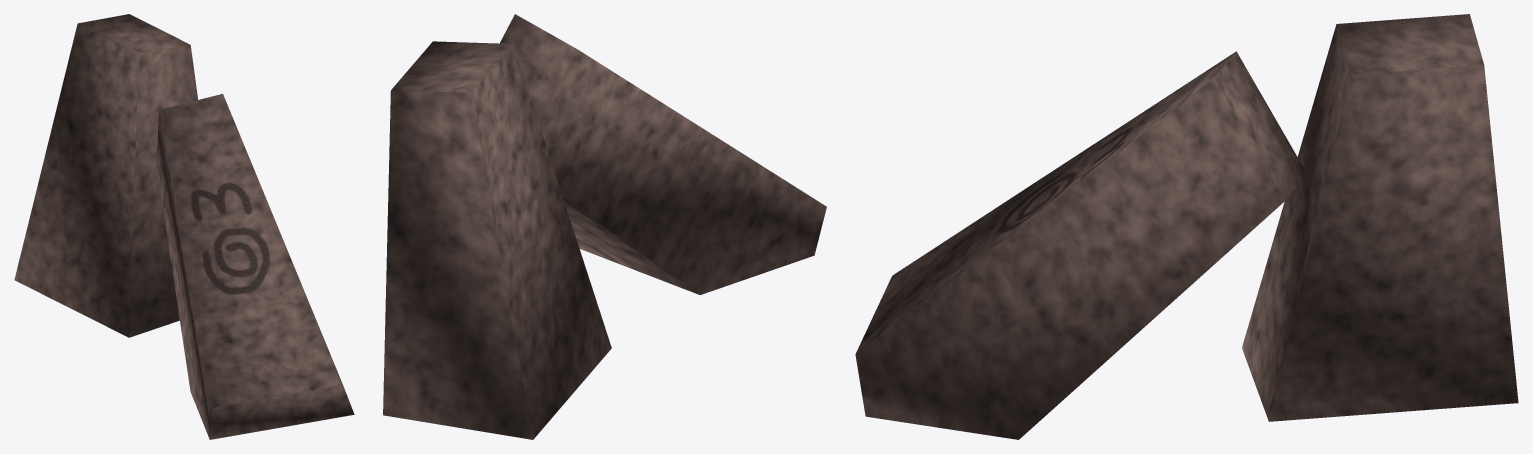
Rendered from tar_henge_05.fbx.
The picture shows the model from 3 angles, left to right: view 1: azimuth 30°, elevation 25°; view 2: azimuth 150°, elevation 25°; view 3: azimuth 270°, elevation 25°; orthographic projection. The views are drawn at different scales.
Parts seen in each view (by area): view 1: tar_henge_05; view 2: tar_henge_05; view 3: tar_henge_05.
Part boxes in pixels (x1=…): tar_henge_05: x1=14, y1=14, x2=354, y2=439; tar_henge_05: x1=383, y1=14, x2=826, y2=439; tar_henge_05: x1=855, y1=14, x2=1518, y2=439.
Bounding box in the file's own units: 101 × 144 × 240.
Materials: 1 (1 with a texture image).
